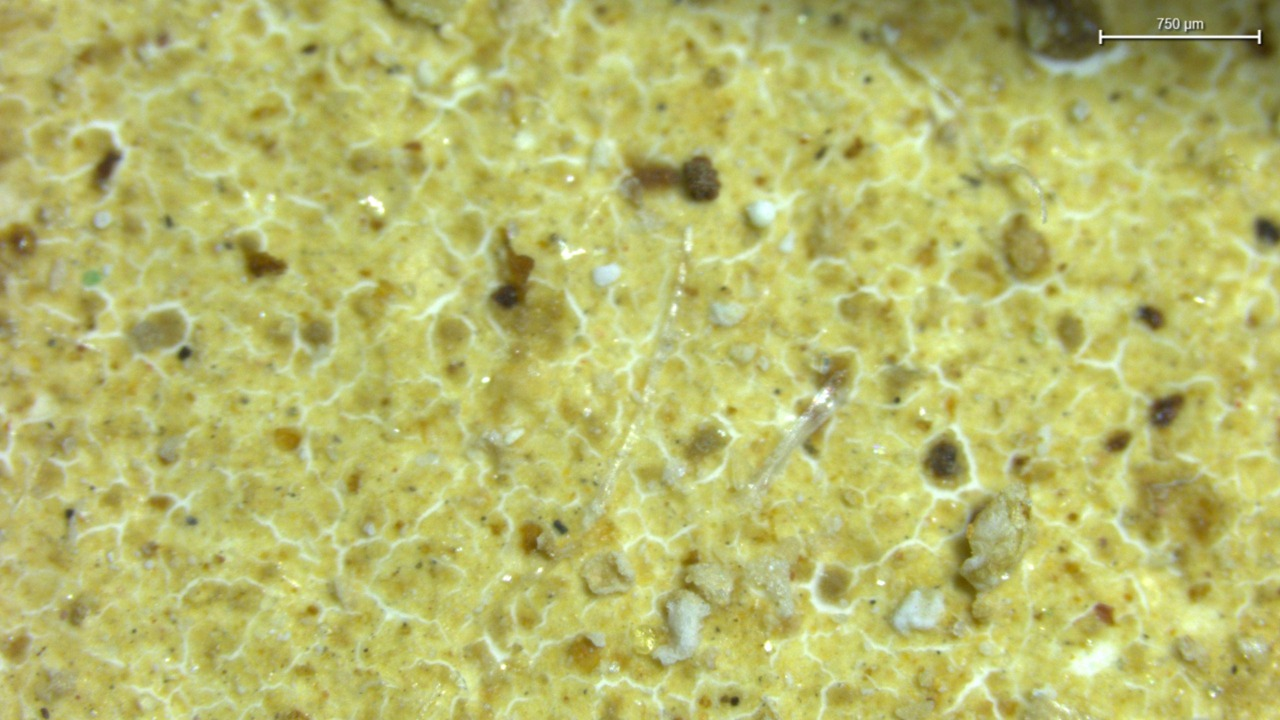microplastic_fragment: (961, 484, 1031, 591), (652, 590, 711, 665)
